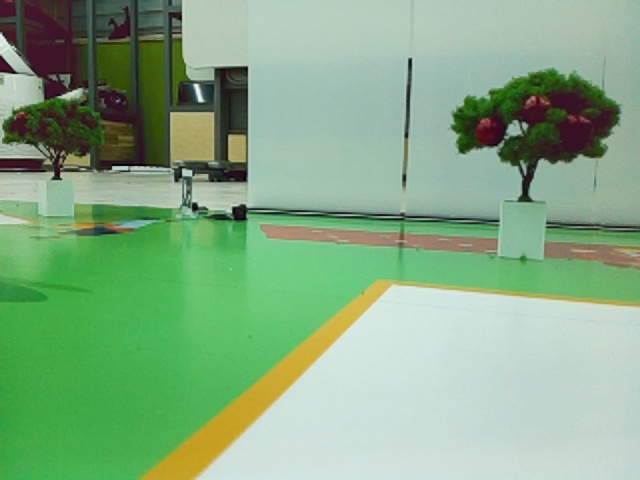apple: (476, 118, 497, 144)
